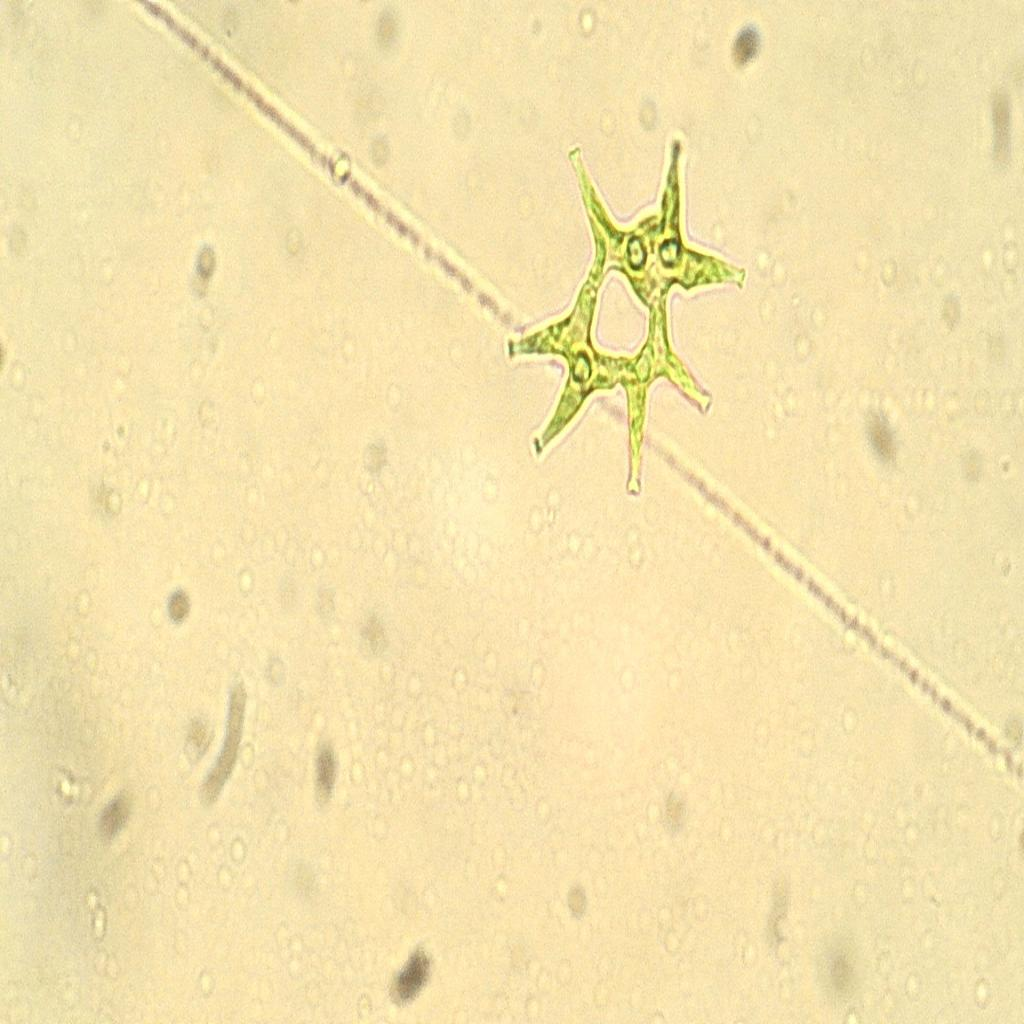Pediastrum_75FI: (491, 117, 756, 530)
